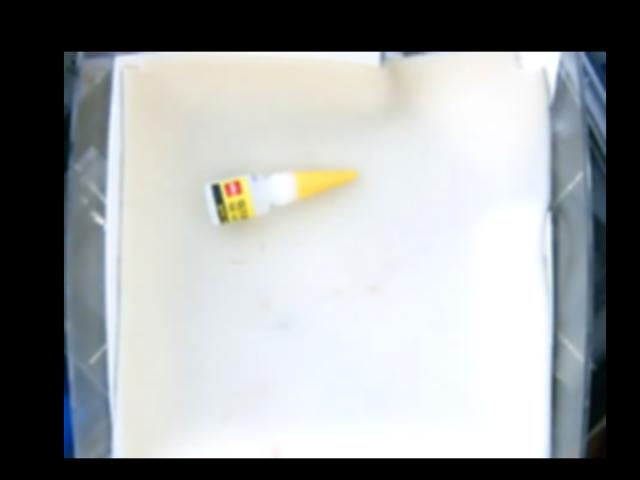Bottle: (205, 169, 357, 222)
